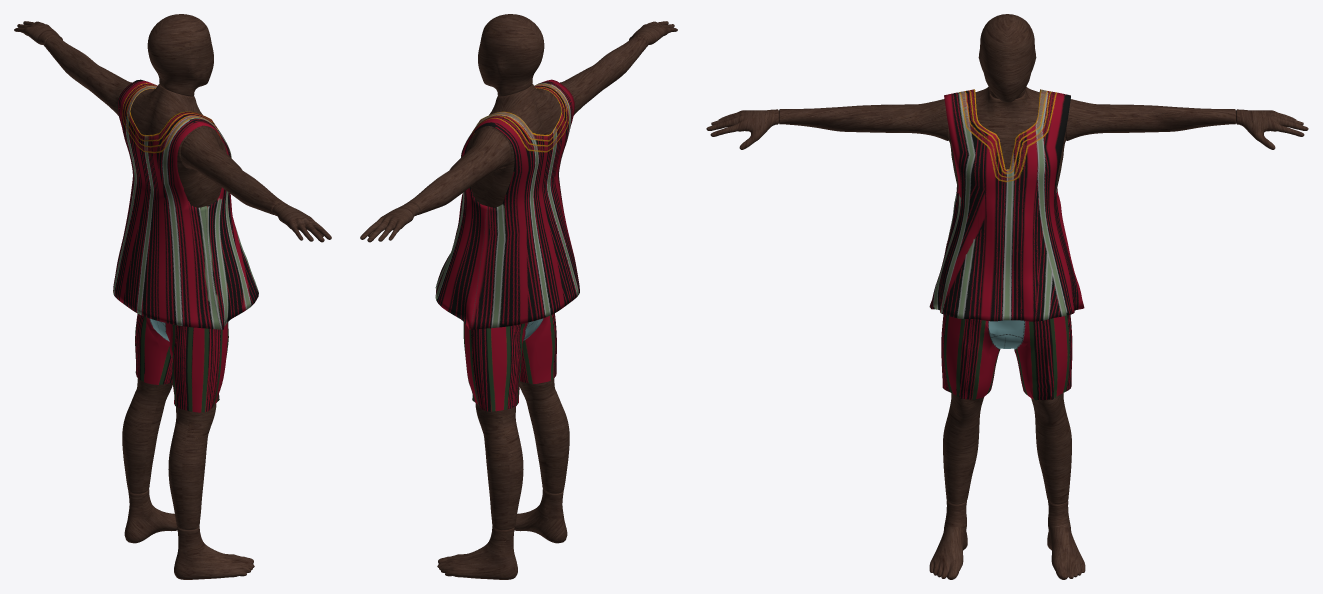
File: Tunique_Pantalon_mannequin.fbx
3 renders of one model, left to right at view 1: azimuth 30°, elevation 25°; view 2: azimuth 150°, elevation 25°; view 3: azimuth 270°, elevation 25°, orthographic.
Parts seen in each view (by area): view 1: Ch36, Tunique, Pantalon; view 2: Ch36, Tunique, Pantalon; view 3: Ch36, Tunique, Pantalon.
Boxes of the visible parts, x1,y1,x2,y2 form: Ch36: (14,14,331,579); Tunique: (113,79,258,329); Pantalon: (135,314,228,412); Ch36: (360,14,677,579); Tunique: (435,79,579,329); Pantalon: (463,313,556,411); Ch36: (706,14,1308,579); Tunique: (929,89,1084,321); Pantalon: (941,314,1072,400).
Size of the model in its own units: 3925 by 17651 by 17796.
Materials: 3 (3 with a texture image).
